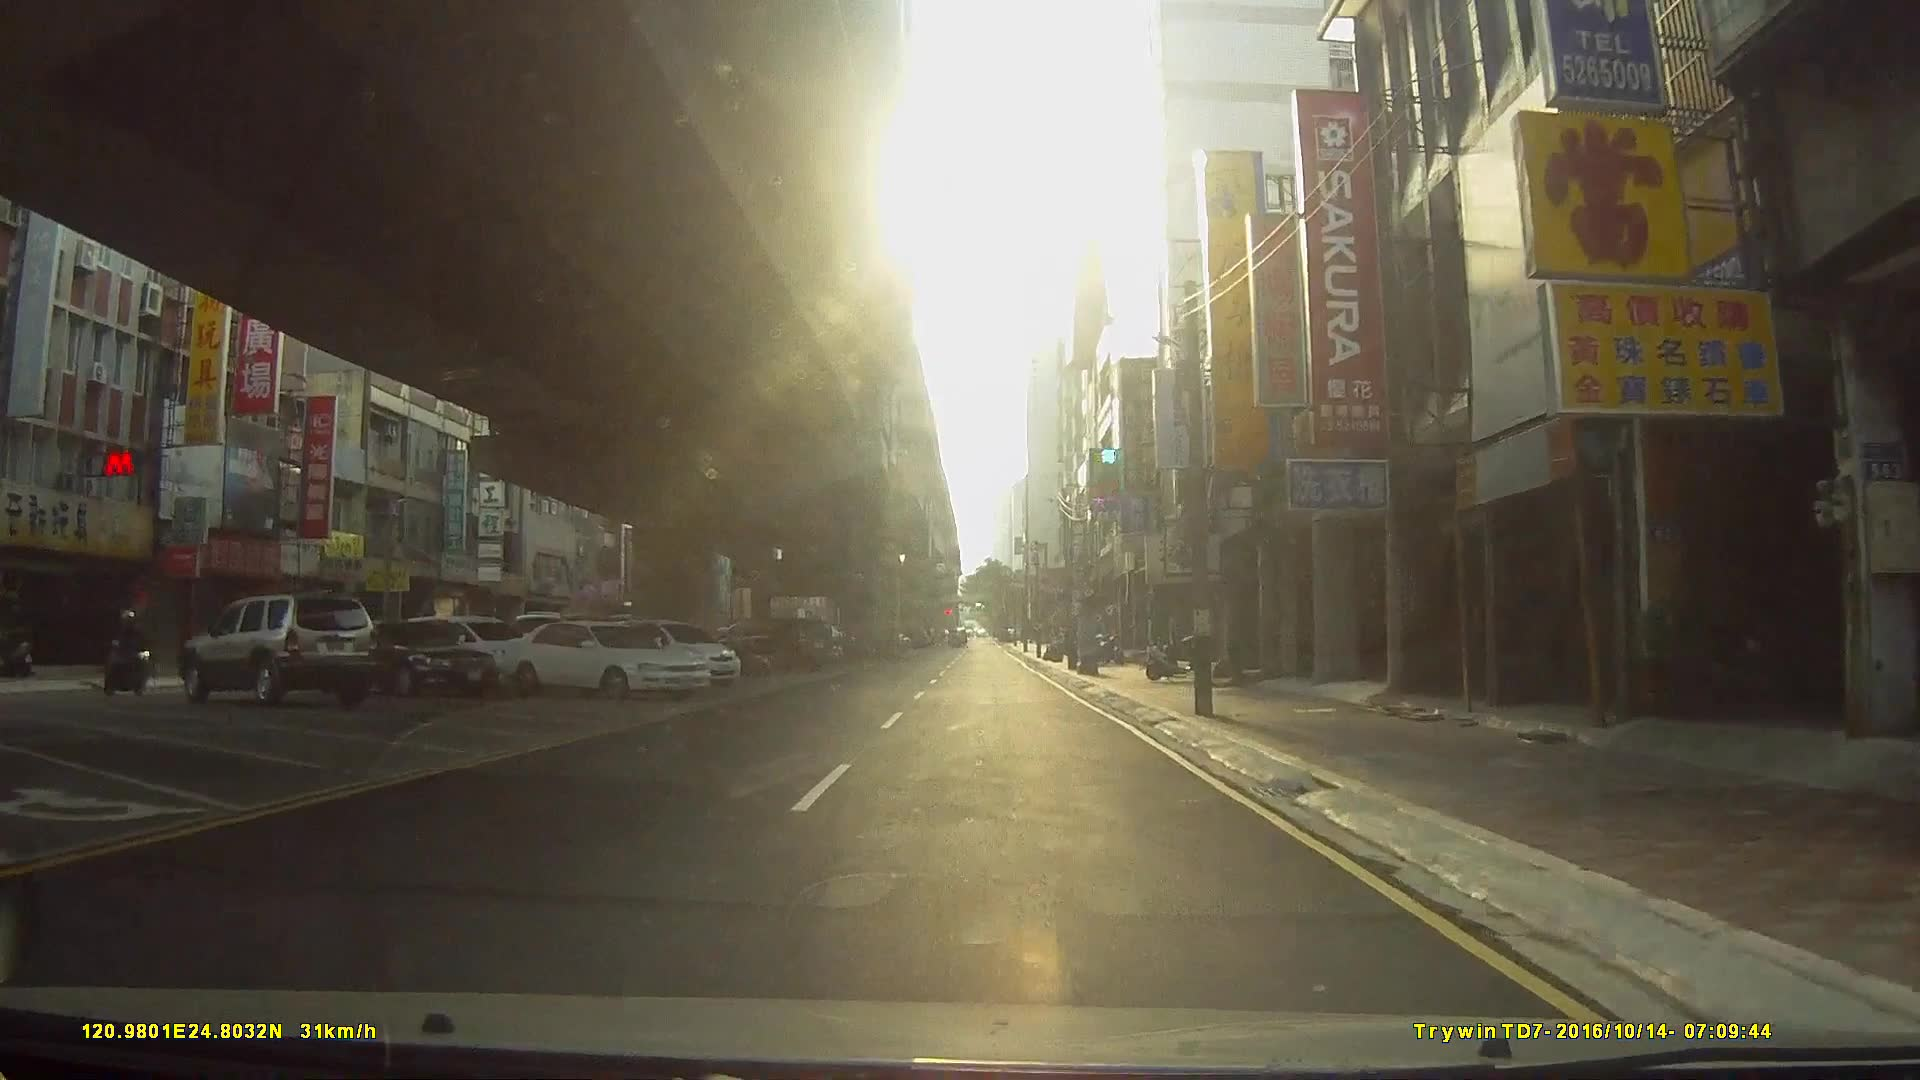rider: (101, 611, 157, 696)
vehicle: (177, 595, 376, 708), (494, 619, 714, 699), (286, 618, 498, 699)
